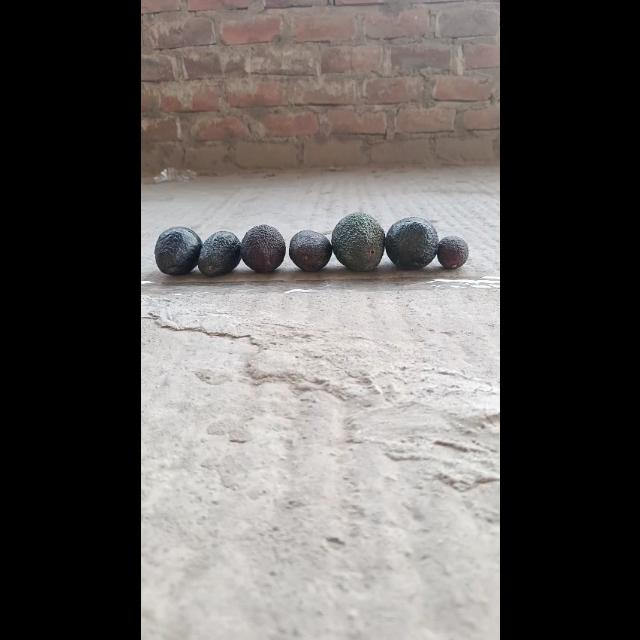Primera: (330, 213, 386, 271), (384, 216, 438, 268)
Segunda: (150, 226, 200, 274), (239, 224, 285, 272), (197, 230, 241, 278), (287, 230, 331, 272)
Tercera: (436, 234, 468, 270)
